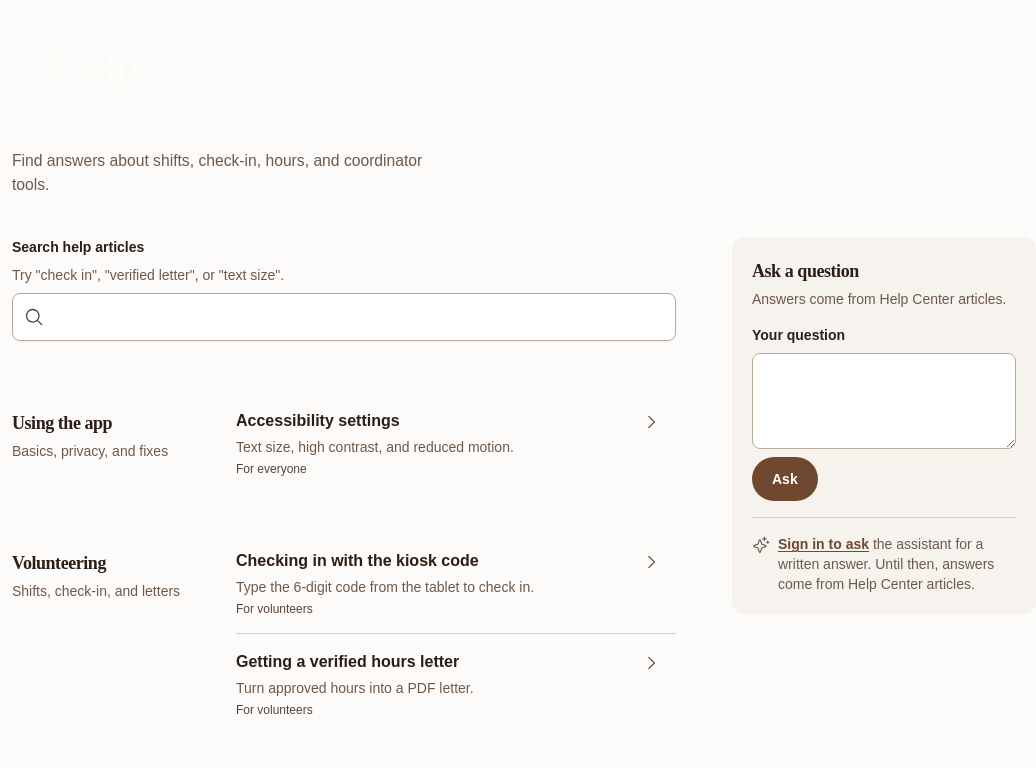
Help Center home › clears the search with the Clear button
Type "kiosk" into the search field labelled "Search help articles". click: (344, 317)
box: left=12, top=293, right=676, bottom=341
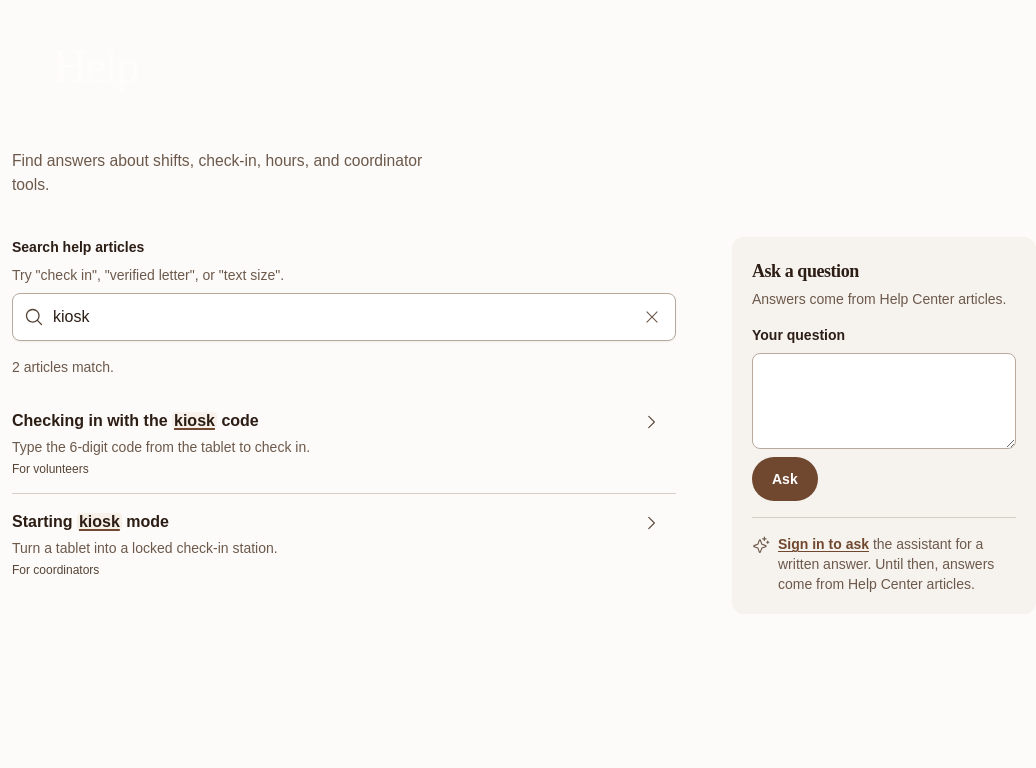
Click the button named "Clear search". click: (652, 317)
box: left=630, top=295, right=674, bottom=339
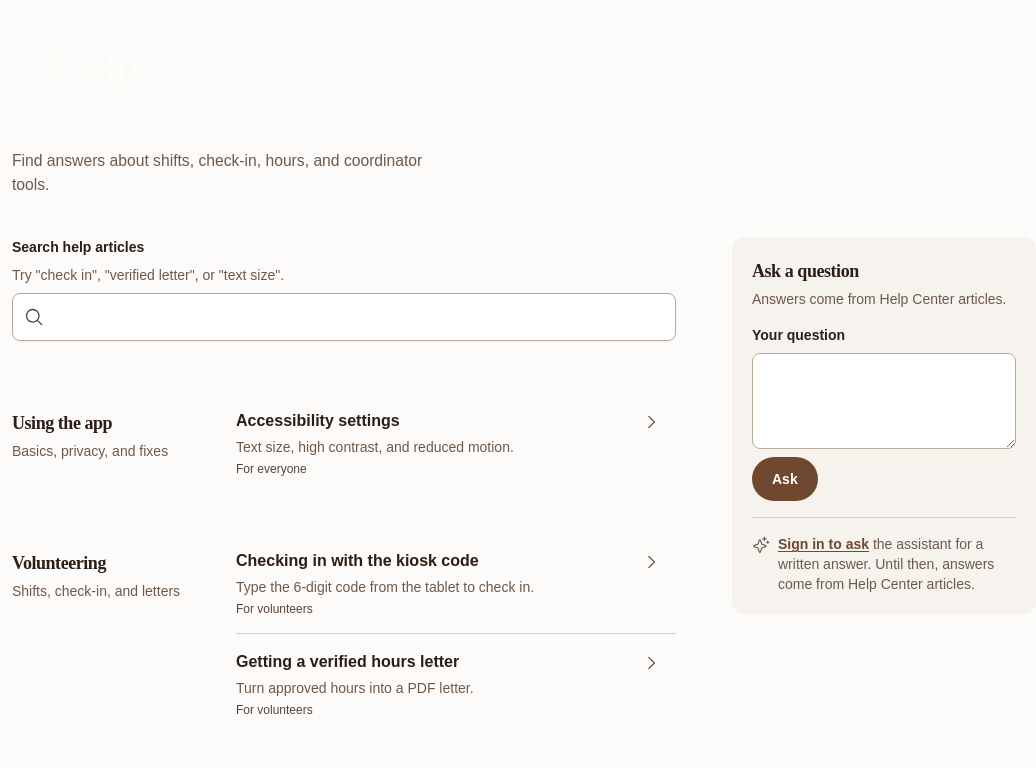
Check: the search field labelled "Search help articles" is empty, box left=12, top=293, right=676, bottom=341
